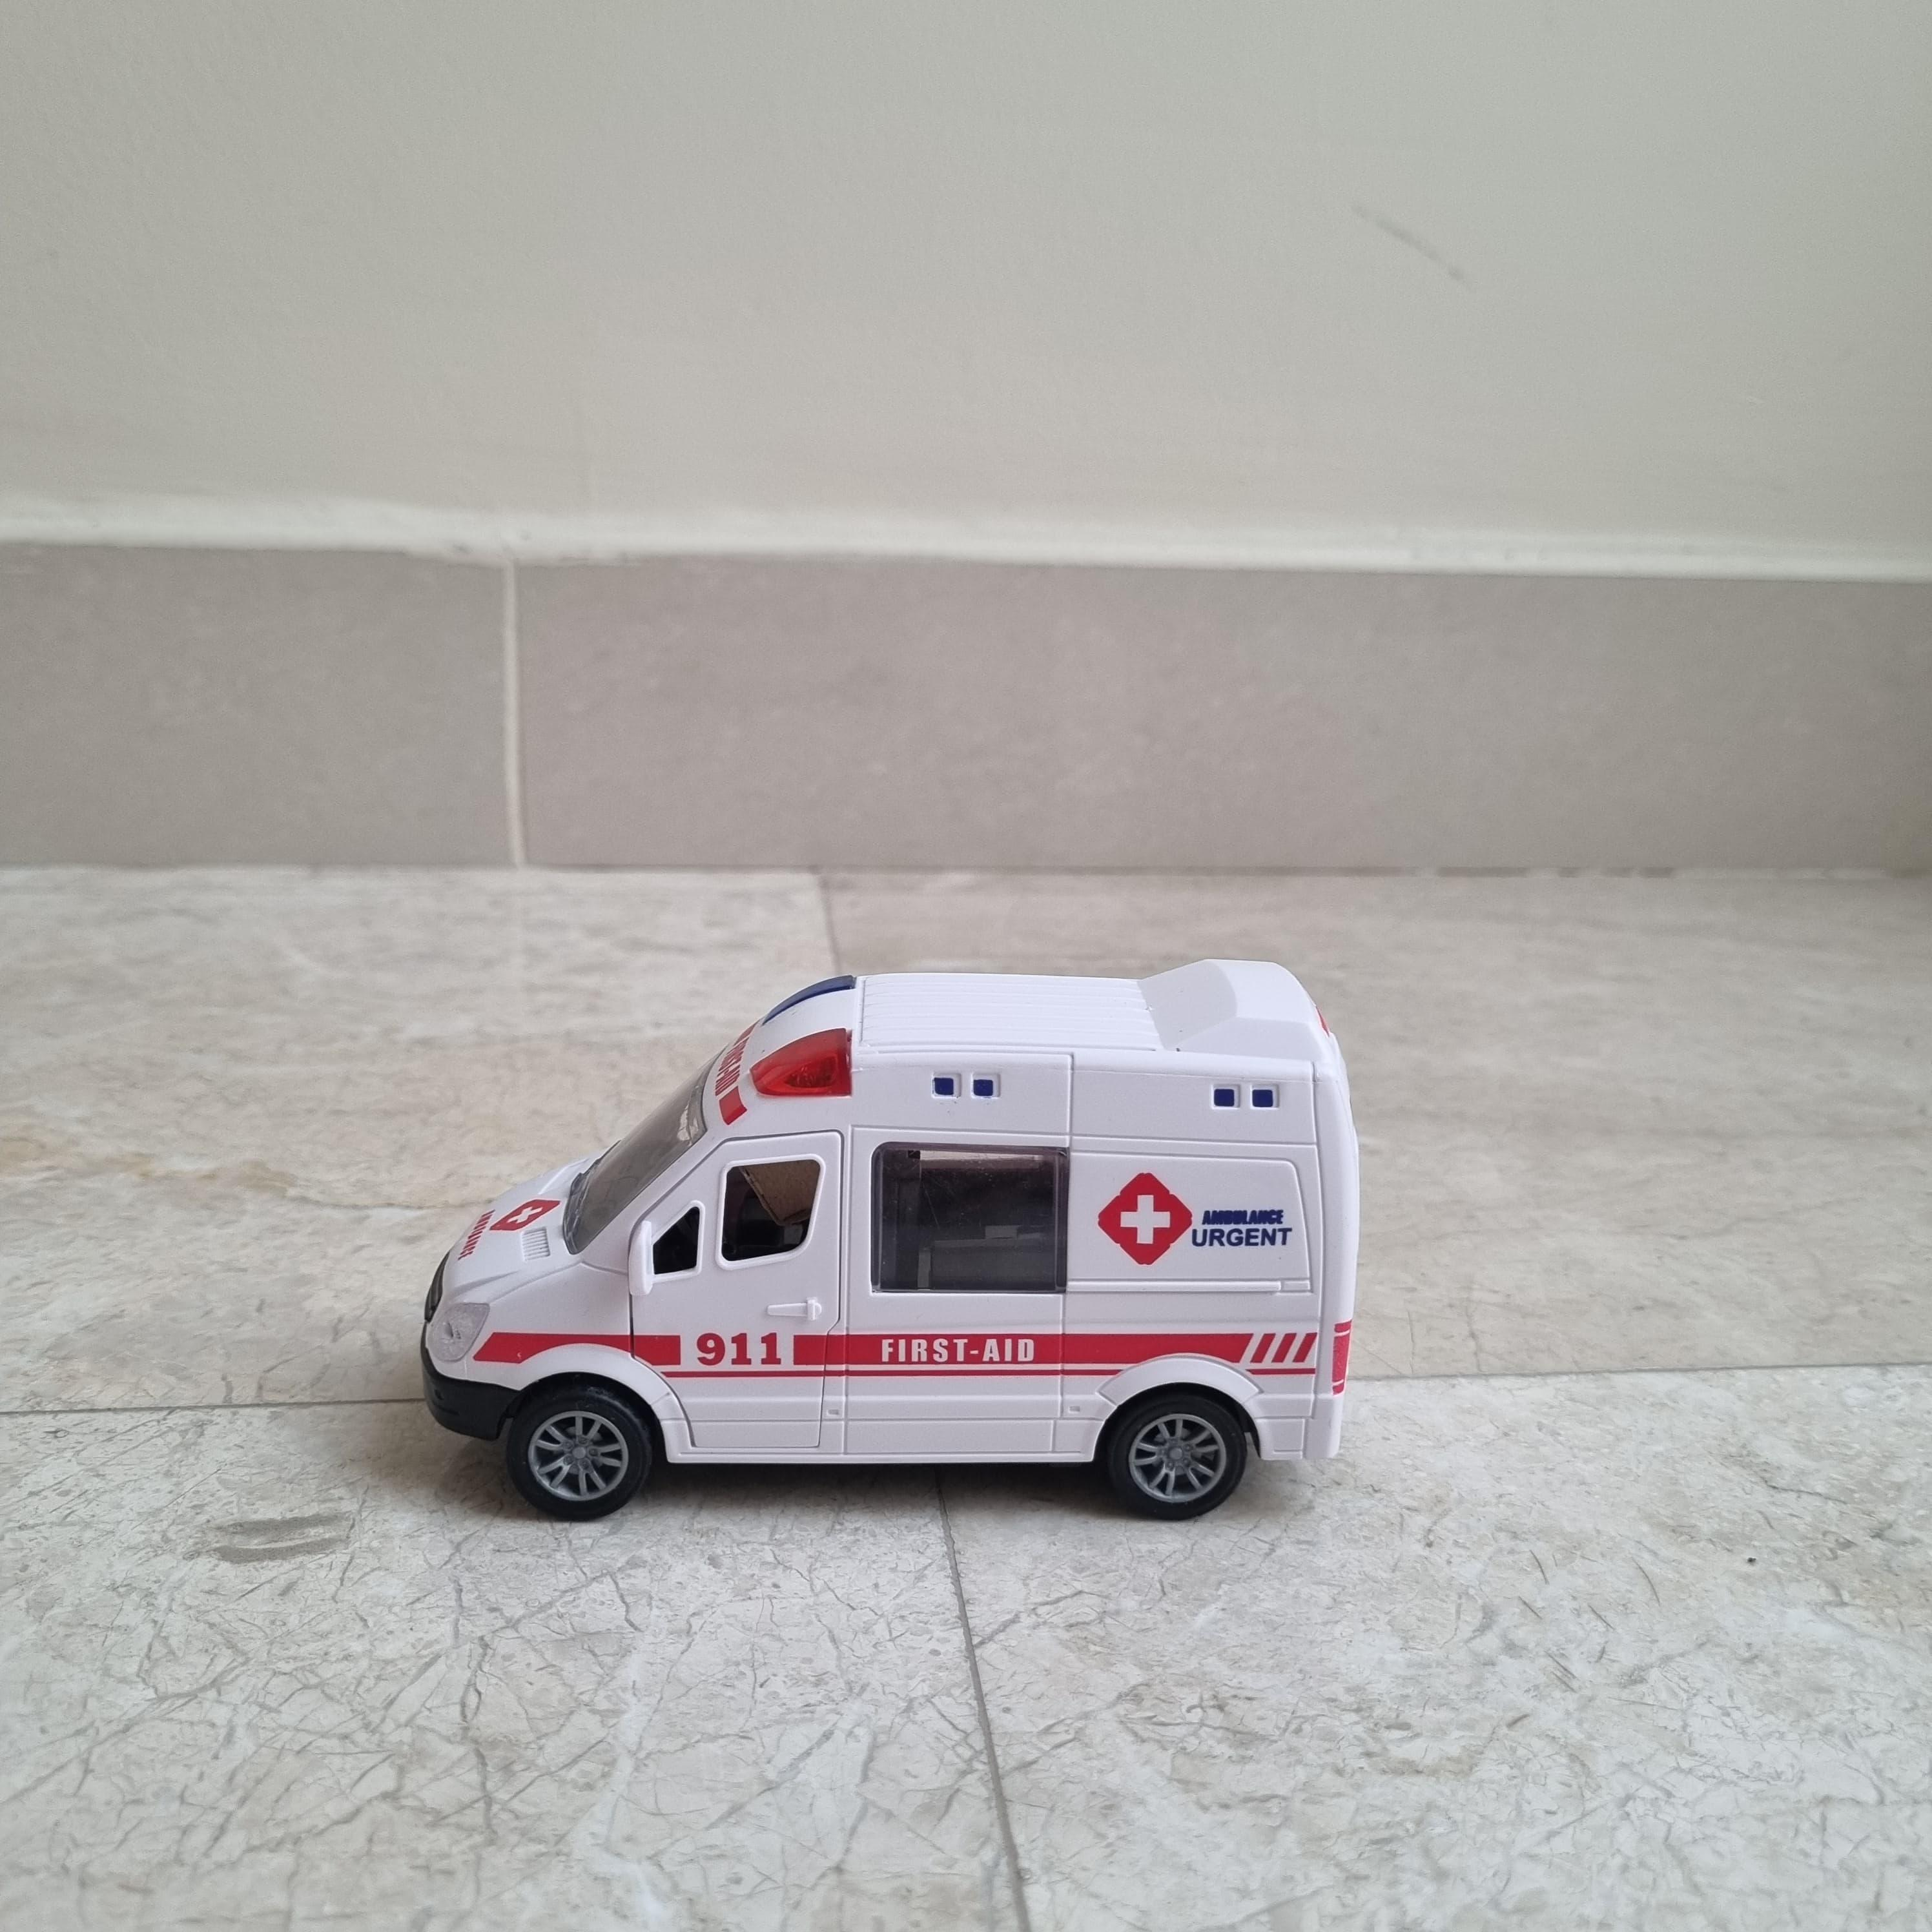ambulance_off: (411, 956, 1362, 1523)
